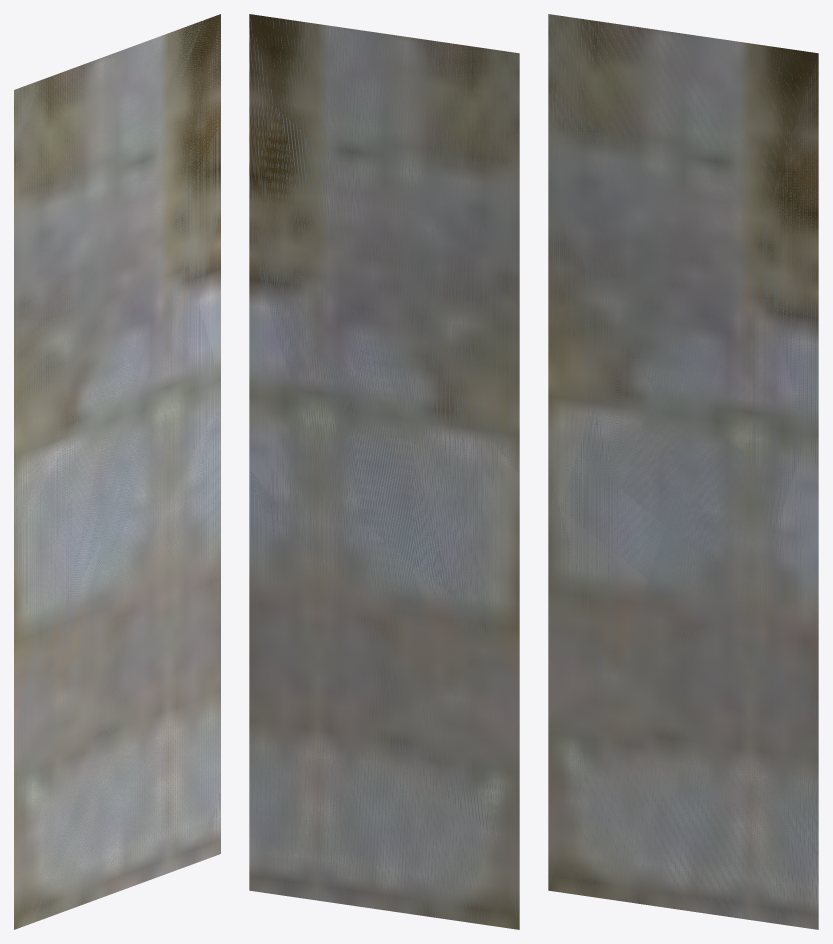
Rendered from 西庸城堡69.dae.
3 views of the same model, side by side, from view 1: azimuth 30°, elevation 25°; view 2: azimuth 150°, elevation 25°; view 3: azimuth 330°, elevation 25° (orthographic). The views are drawn at different scales.
Parts seen in each view (by area): view 1: SketchUp; view 2: SketchUp; view 3: SketchUp.
Part boxes in pixels (box(x1,y1,x2,y2)): SketchUp: box(14, 14, 220, 929); SketchUp: box(249, 14, 519, 929); SketchUp: box(548, 14, 818, 929).
Size of the model in its own units: 30.92 by 6.02 by 107.
